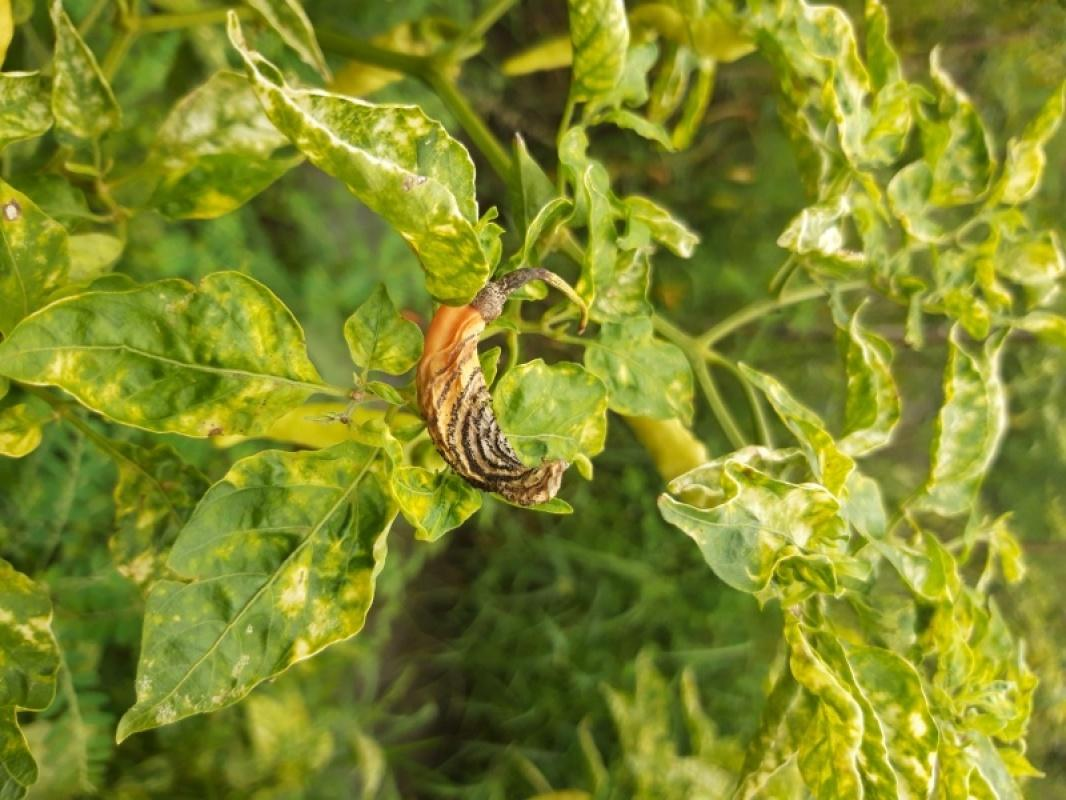antraknosa: (421, 293, 566, 506)
